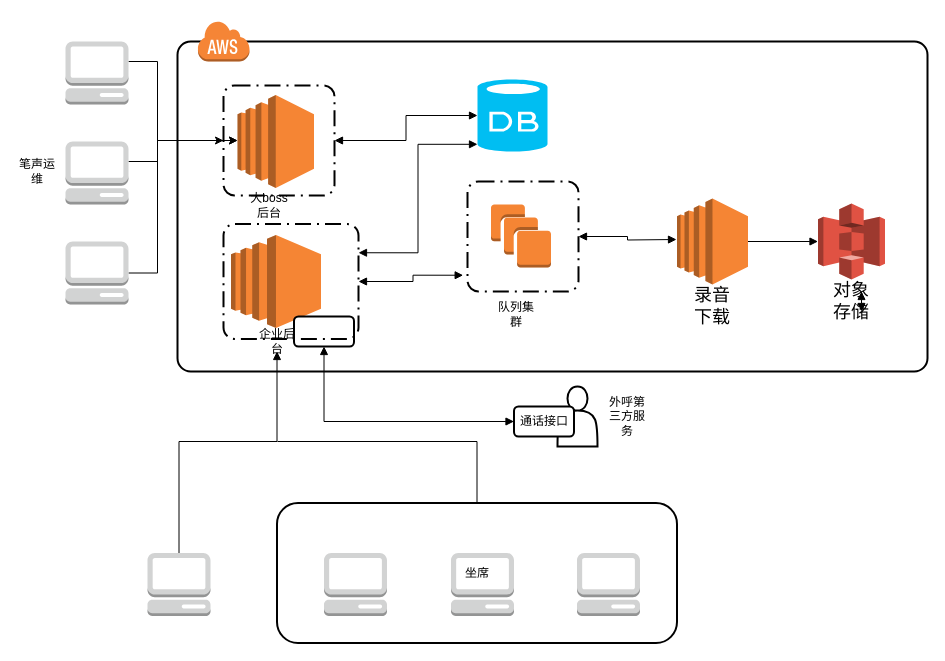
Image size: 945x661. Some labels were removed from this diagram. The centre of each missing label's shape, as x and y in pixels:
"企业管理" goes at (x=178, y=584).
"通话回调" goes at (x=323, y=331).
